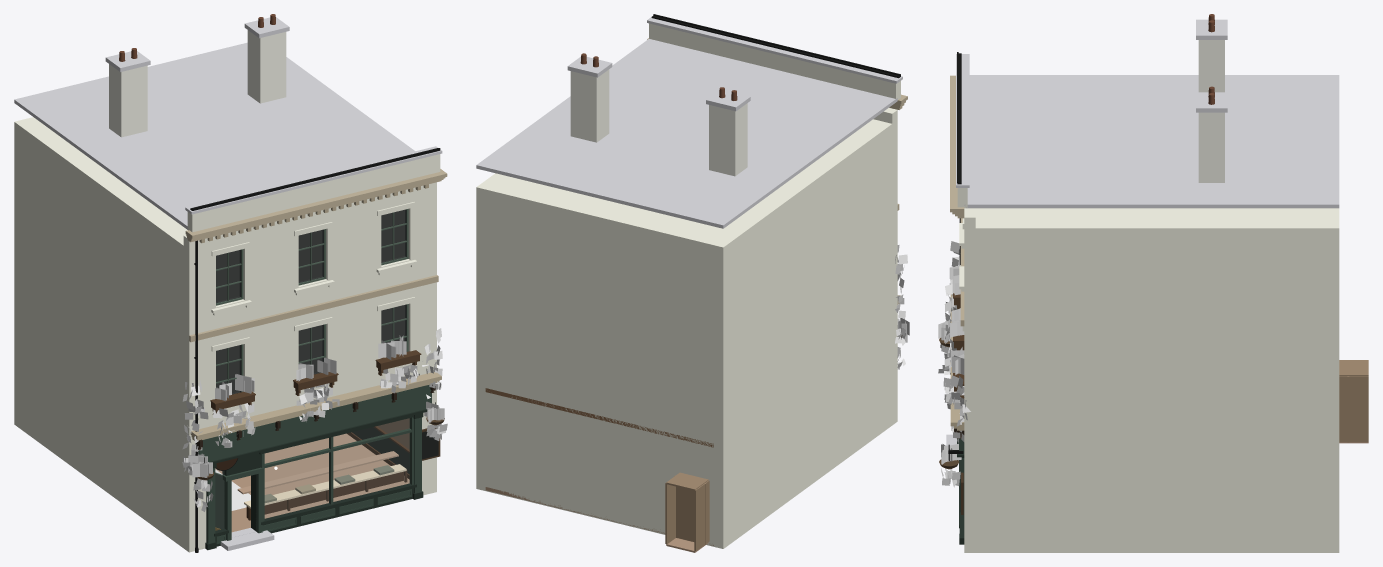
The model's file is social-cafe-cafe.glb.
3 renders of one model, left to right at view 1: azimuth 30°, elevation 25°; view 2: azimuth 150°, elevation 25°; view 3: azimuth 270°, elevation 25°, orthographic. The views are drawn at different scales.
Parts seen in each view (by area): view 1: mesh_cebc8f3b53ee_378, mesh_cebc8f3b53ee_379, mesh_cebc8f3b53ee_385, mesh_cebc8f3b53ee_383, mesh_cebc8f3b53ee_391, mesh_cebc8f3b53ee_419, mesh_cebc8f3b53ee_375, mesh_cebc8f3b53ee_382, mesh_cebc8f3b53ee_418, mesh_cebc8f3b53ee_394, mesh_cebc8f3b53ee_412, mesh_cebc8f3b53ee_396 (+24 smaller); view 2: mesh_cebc8f3b53ee_379, mesh_cebc8f3b53ee_378, mesh_cebc8f3b53ee_385, mesh_cebc8f3b53ee_419, mesh_cebc8f3b53ee_437, mesh_cebc8f3b53ee_423, mesh_cebc8f3b53ee_376, mesh_02e2ea05acd3_435; view 3: mesh_cebc8f3b53ee_379, mesh_cebc8f3b53ee_385, mesh_cebc8f3b53ee_419, mesh_cebc8f3b53ee_437, mesh_cebc8f3b53ee_418, mesh_cebc8f3b53ee_423, mesh_02e2ea05acd3_410, mesh_02e2ea05acd3_436.
Part boxes in pixels (bbox=[...]): mesh_cebc8f3b53ee_378: bbox=[14, 119, 251, 552]; mesh_cebc8f3b53ee_379: bbox=[14, 117, 440, 495]; mesh_cebc8f3b53ee_385: bbox=[14, 17, 442, 550]; mesh_cebc8f3b53ee_383: bbox=[198, 385, 431, 533]; mesh_cebc8f3b53ee_391: bbox=[265, 419, 408, 517]; mesh_cebc8f3b53ee_419: bbox=[109, 30, 286, 137]; mesh_cebc8f3b53ee_375: bbox=[215, 433, 409, 532]; mesh_cebc8f3b53ee_382: bbox=[209, 409, 427, 533]; mesh_cebc8f3b53ee_418: bbox=[185, 169, 447, 242]; mesh_cebc8f3b53ee_394: bbox=[190, 372, 441, 440]; mesh_cebc8f3b53ee_412: bbox=[189, 275, 438, 342]; mesh_cebc8f3b53ee_396: bbox=[241, 209, 408, 392]; mesh_cebc8f3b53ee_379: bbox=[476, 23, 900, 548]; mesh_cebc8f3b53ee_378: bbox=[714, 120, 897, 548]; mesh_cebc8f3b53ee_385: bbox=[476, 17, 902, 228]; mesh_cebc8f3b53ee_419: bbox=[570, 69, 747, 176]; mesh_cebc8f3b53ee_437: bbox=[665, 472, 709, 551]; mesh_cebc8f3b53ee_423: bbox=[651, 14, 900, 78]; mesh_cebc8f3b53ee_376: bbox=[485, 388, 713, 447]; mesh_02e2ea05acd3_435: bbox=[895, 245, 907, 343]; mesh_cebc8f3b53ee_379: bbox=[957, 188, 1339, 552]; mesh_cebc8f3b53ee_385: bbox=[946, 19, 1339, 460]; mesh_cebc8f3b53ee_419: bbox=[1198, 40, 1224, 182]; mesh_cebc8f3b53ee_437: bbox=[1339, 360, 1368, 442]; mesh_cebc8f3b53ee_418: bbox=[950, 75, 964, 218]; mesh_cebc8f3b53ee_423: bbox=[957, 52, 961, 184]; mesh_02e2ea05acd3_410: bbox=[941, 347, 964, 464]; mesh_02e2ea05acd3_436: bbox=[950, 375, 970, 442].
Size of the model in its own units: 9.41 by 14.12 by 12.62.
